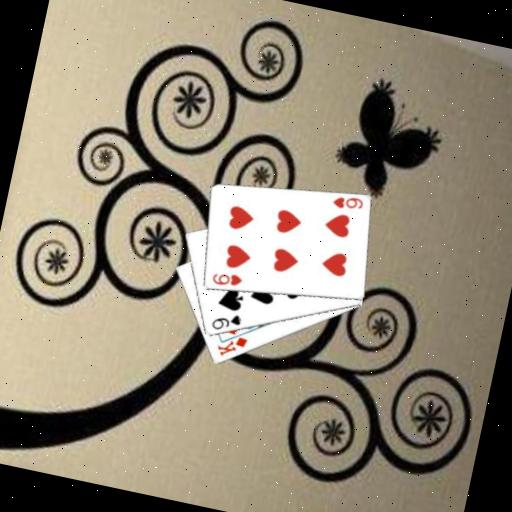6H: (207, 266, 244, 291), (329, 189, 366, 214)
9S: (207, 306, 244, 336)
KD: (212, 329, 249, 362)
